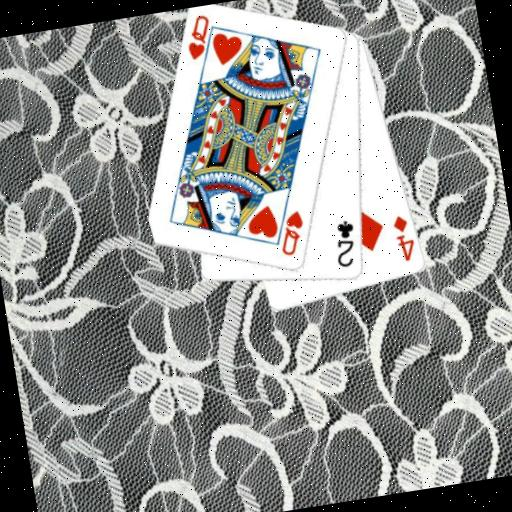2C: (328, 216, 361, 270)
4D: (389, 211, 419, 264)
QH: (180, 10, 222, 72), (273, 206, 310, 259)
